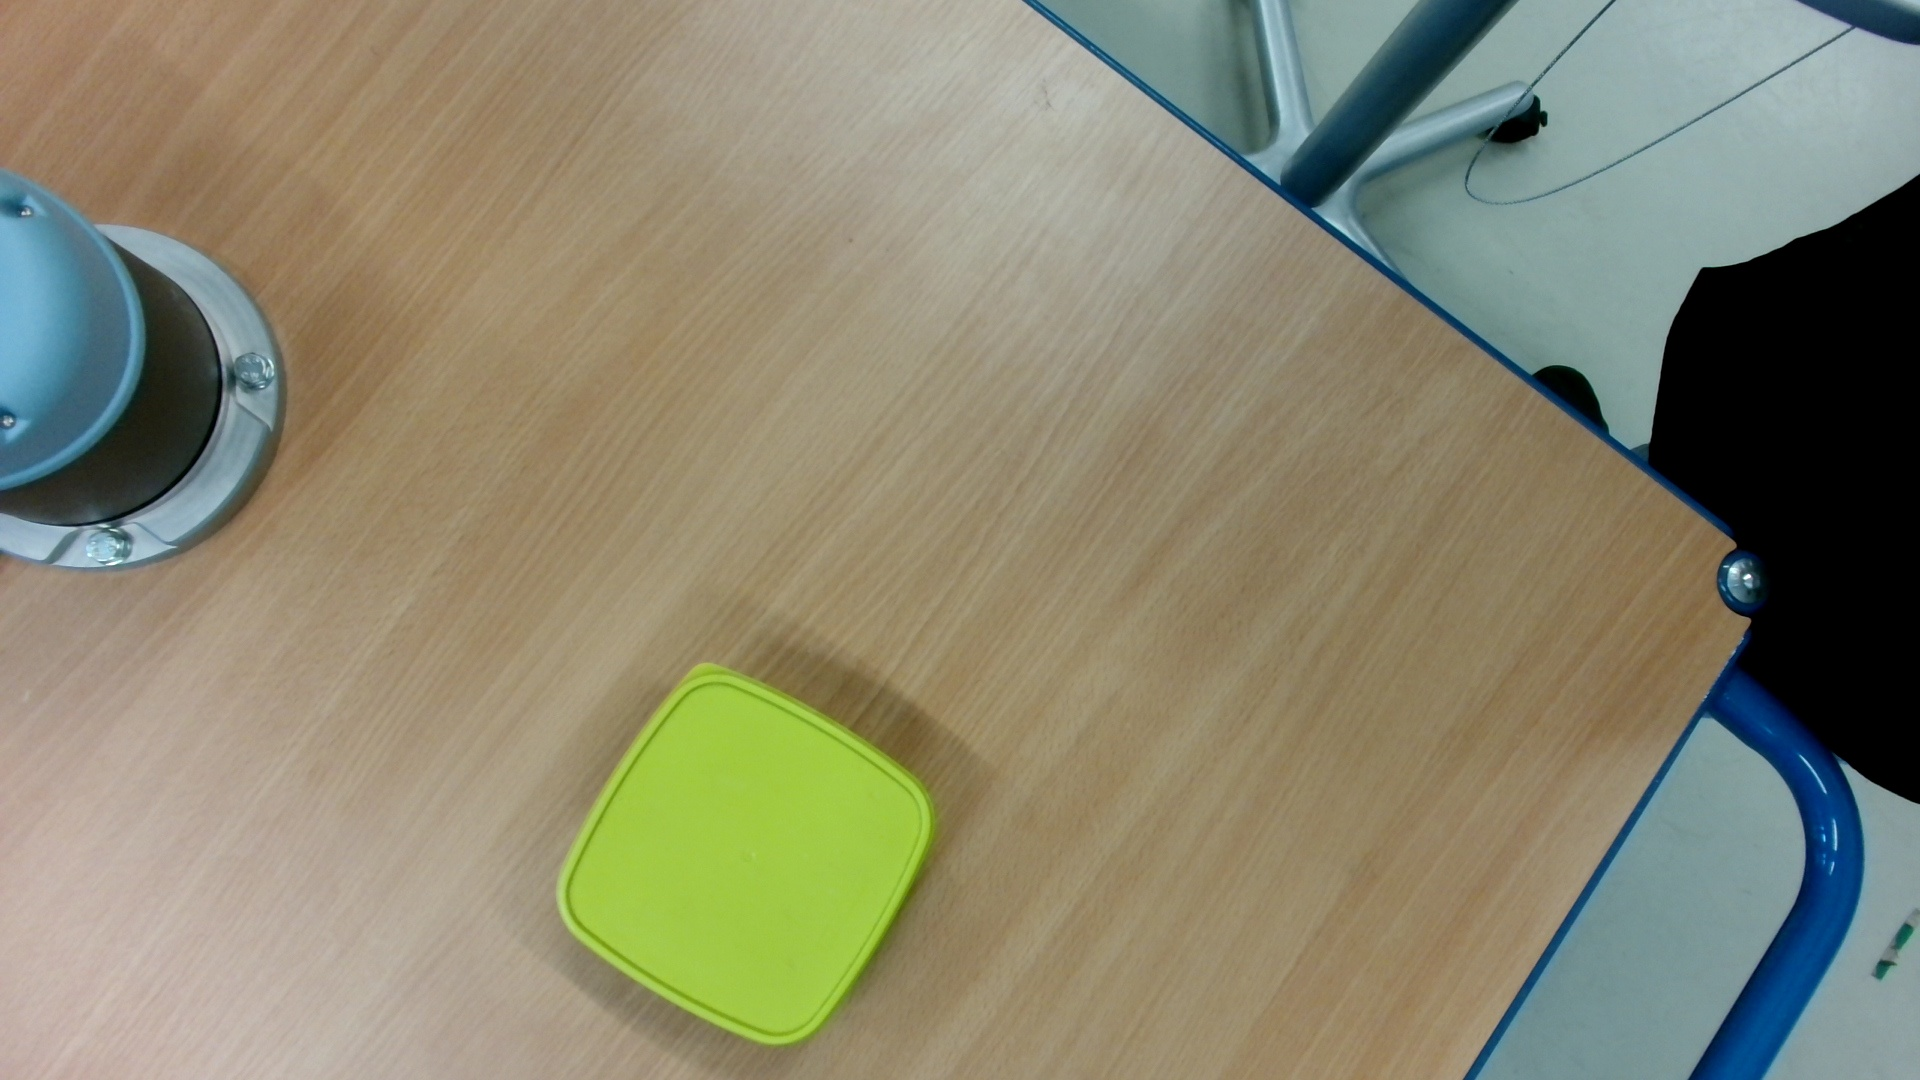Box: (545, 656, 941, 1056)
